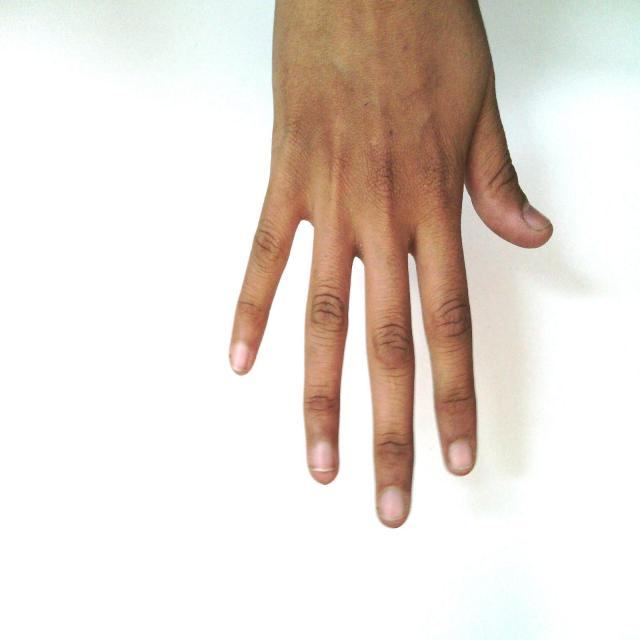others: (219, 1, 575, 531)
